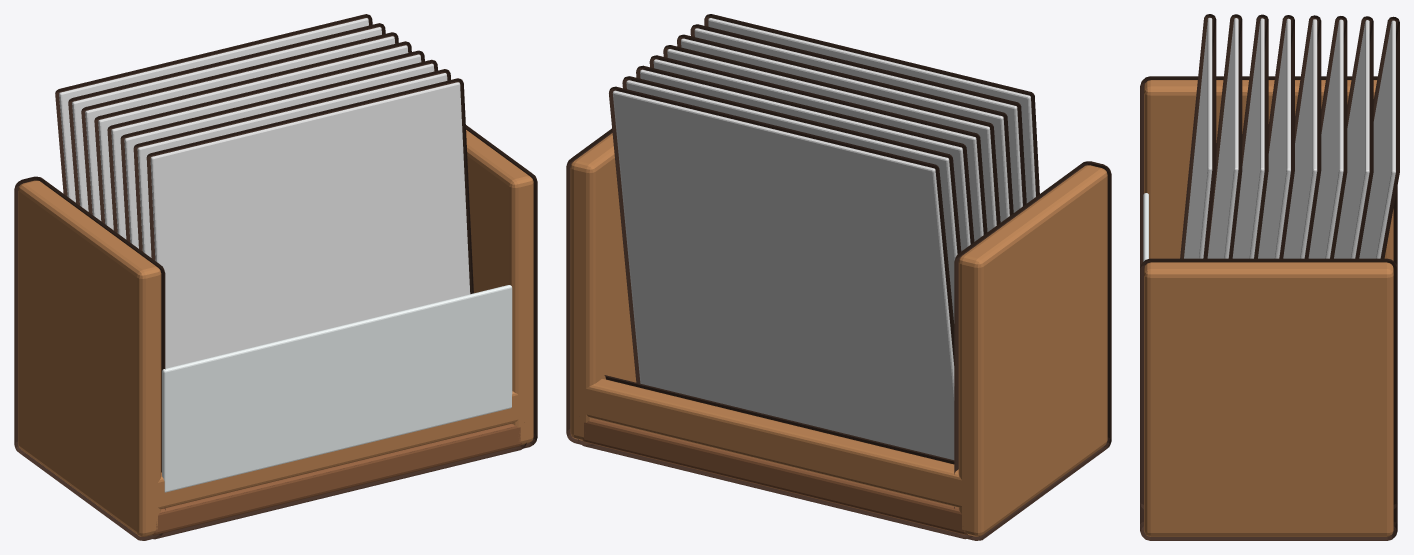
File: MC_3_Crate.fbx
The picture shows the model from 3 angles, left to right: view 1: azimuth 30°, elevation 25°; view 2: azimuth 150°, elevation 25°; view 3: azimuth 270°, elevation 25°; orthographic projection. The views are drawn at different scales.
Parts seen in each view (by area): view 1: Sleeve_01, Cr_Acrylic, Cr_Side-1, Cr_Side1, Cr_Bottom, Cr_FrontRail, Sleeve_02, Sleeve_03, Sleeve_04, Sleeve_05, Sleeve_06, Sleeve_07 (+1 smaller); view 2: Sleeve_08, Cr_Side-1, Cr_BackRail, Cr_Side1, Cr_Bottom, Sleeve_07, Sleeve_05, Sleeve_06, Sleeve_04, Sleeve_03, Sleeve_02, Sleeve_01; view 3: Cr_Side1, Cr_Side-1, Sleeve_08, Sleeve_07, Sleeve_06, Sleeve_05, Sleeve_01, Sleeve_04, Sleeve_03, Sleeve_02, Cr_Acrylic.
Part boxes in pixels (x1=…): Sleeve_01: x1=146, y1=78, x2=473, y2=368; Cr_Acrylic: x1=162, y1=285, x2=512, y2=492; Cr_Side-1: x1=14, y1=176, x2=165, y2=540; Cr_Side1: x1=466, y1=125, x2=537, y2=449; Cr_Bottom: x1=147, y1=423, x2=526, y2=539; Cr_FrontRail: x1=156, y1=391, x2=520, y2=508; Sleeve_02: x1=133, y1=69, x2=450, y2=257; Sleeve_03: x1=120, y1=59, x2=437, y2=248; Sleeve_04: x1=107, y1=50, x2=424, y2=239; Sleeve_05: x1=94, y1=41, x2=411, y2=230; Sleeve_06: x1=81, y1=32, x2=398, y2=220; Sleeve_07: x1=68, y1=23, x2=385, y2=211; Sleeve_08: x1=609, y1=86, x2=954, y2=459; Cr_Side-1: x1=954, y1=161, x2=1111, y2=540; Cr_BackRail: x1=584, y1=375, x2=962, y2=507; Cr_Side1: x1=566, y1=128, x2=636, y2=446; Cr_Bottom: x1=577, y1=419, x2=972, y2=539; Sleeve_07: x1=622, y1=76, x2=961, y2=323; Sleeve_05: x1=649, y1=55, x2=987, y2=241; Sleeve_06: x1=636, y1=65, x2=974, y2=251; Sleeve_04: x1=663, y1=45, x2=1000, y2=231; Sleeve_03: x1=677, y1=34, x2=1013, y2=222; Sleeve_02: x1=690, y1=24, x2=1026, y2=212; Sleeve_01: x1=704, y1=14, x2=1039, y2=203; Cr_Side1: x1=1140, y1=258, x2=1397, y2=540; Cr_Side-1: x1=1140, y1=76, x2=1397, y2=267; Sleeve_08: x1=1359, y1=16, x2=1399, y2=258; Sleeve_07: x1=1334, y1=16, x2=1373, y2=258; Sleeve_06: x1=1308, y1=16, x2=1347, y2=258; Sleeve_05: x1=1283, y1=15, x2=1321, y2=258; Sleeve_01: x1=1180, y1=14, x2=1216, y2=258; Sleeve_04: x1=1258, y1=15, x2=1294, y2=258; Sleeve_03: x1=1232, y1=14, x2=1268, y2=258; Sleeve_02: x1=1207, y1=14, x2=1242, y2=258; Cr_Acrylic: x1=1143, y1=193, x2=1148, y2=261.
Size of the model in its own units: 0.4109 by 0.3466 by 0.2288.
